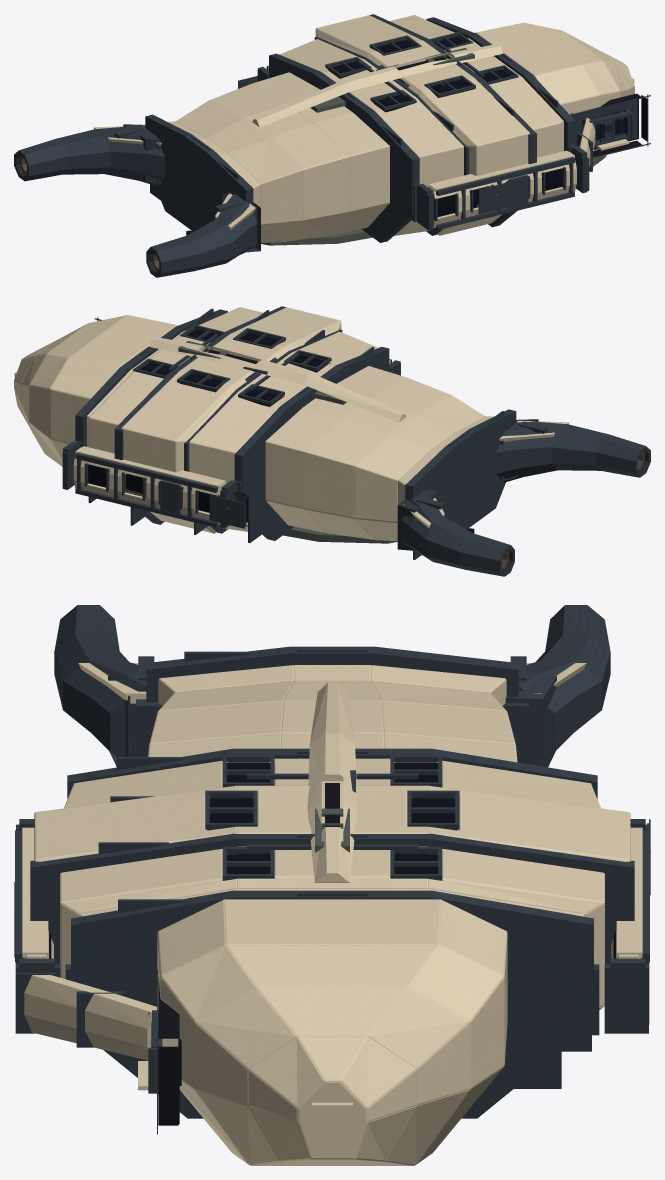
Rendered from massline_express_liner_v1_lod1.glb.
The picture shows the model from 3 angles, top to bottom: view 1: azimuth 30°, elevation 25°; view 2: azimuth 150°, elevation 25°; view 3: azimuth 270°, elevation 25°; orthographic projection. The views are drawn at different scales.
Parts seen in each view (by area): view 1: LOD1_Hull_MAT_SF_Massline_CeramicPaint_WarmIvory, LOD1_MAT_SF_Massline_Frame_DarkAnodized, LOD1_MAT_SF_Massline_Keel_ForgedDark, LOD1_MAT_SF_Massline_Glazing_SmokedSafety, LOD1_MAT_SF_Massline_ServicePrimer_Galvanized; view 2: LOD1_Hull_MAT_SF_Massline_CeramicPaint_WarmIvory, LOD1_MAT_SF_Massline_Frame_DarkAnodized, LOD1_MAT_SF_Massline_Keel_ForgedDark, LOD1_MAT_SF_Massline_Glazing_SmokedSafety, LOD1_MAT_SF_Massline_ServicePrimer_Galvanized; view 3: LOD1_Hull_MAT_SF_Massline_CeramicPaint_WarmIvory, LOD1_MAT_SF_Massline_Frame_DarkAnodized, LOD1_MAT_SF_Massline_Keel_ForgedDark, LOD1_MAT_SF_Massline_Glazing_SmokedSafety, LOD1_MAT_SF_Massline_ServicePrimer_Galvanized.
Boxes of the visible parts, bbox=[...] form: LOD1_Hull_MAT_SF_Massline_CeramicPaint_WarmIvory: bbox=[93, 15, 634, 242]; LOD1_MAT_SF_Massline_Frame_DarkAnodized: bbox=[14, 14, 650, 277]; LOD1_MAT_SF_Massline_Keel_ForgedDark: bbox=[186, 36, 647, 235]; LOD1_MAT_SF_Massline_Glazing_SmokedSafety: bbox=[331, 36, 627, 215]; LOD1_MAT_SF_Massline_ServicePrimer_Galvanized: bbox=[261, 48, 474, 245]; LOD1_Hull_MAT_SF_Massline_CeramicPaint_WarmIvory: bbox=[14, 307, 569, 540]; LOD1_MAT_SF_Massline_Frame_DarkAnodized: bbox=[62, 306, 650, 576]; LOD1_MAT_SF_Massline_Keel_ForgedDark: bbox=[88, 329, 474, 533]; LOD1_MAT_SF_Massline_Glazing_SmokedSafety: bbox=[88, 328, 324, 511]; LOD1_MAT_SF_Massline_ServicePrimer_Galvanized: bbox=[178, 341, 397, 543]; LOD1_Hull_MAT_SF_Massline_CeramicPaint_WarmIvory: bbox=[22, 663, 642, 1165]; LOD1_MAT_SF_Massline_Frame_DarkAnodized: bbox=[14, 605, 650, 1134]; LOD1_MAT_SF_Massline_Keel_ForgedDark: bbox=[49, 763, 615, 1125]; LOD1_MAT_SF_Massline_Glazing_SmokedSafety: bbox=[151, 761, 454, 1047]; LOD1_MAT_SF_Massline_ServicePrimer_Galvanized: bbox=[315, 808, 349, 852].
Size of what is drawn, in the model's own units: 40.67 by 10.99 by 22.42.
9 materials, 9 textured.
